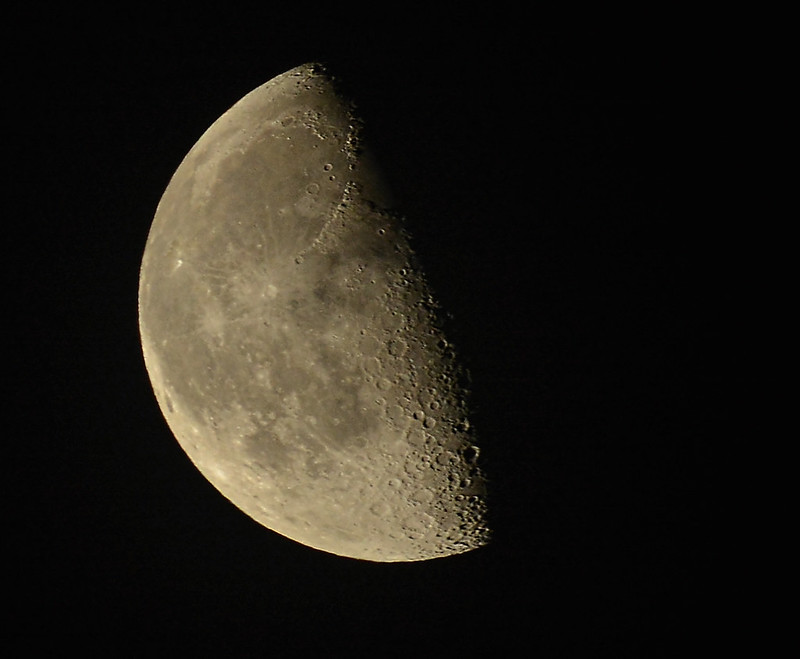crater: (230, 229, 333, 350), (295, 178, 327, 209), (361, 499, 396, 525), (428, 446, 460, 474), (356, 352, 385, 380), (274, 110, 300, 136), (172, 252, 193, 275), (316, 160, 338, 174), (372, 224, 387, 240)
